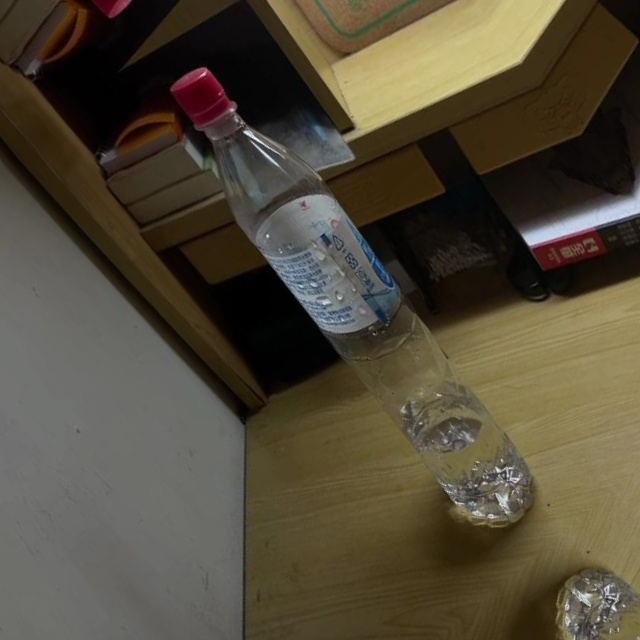Water: (129, 50, 571, 548)
